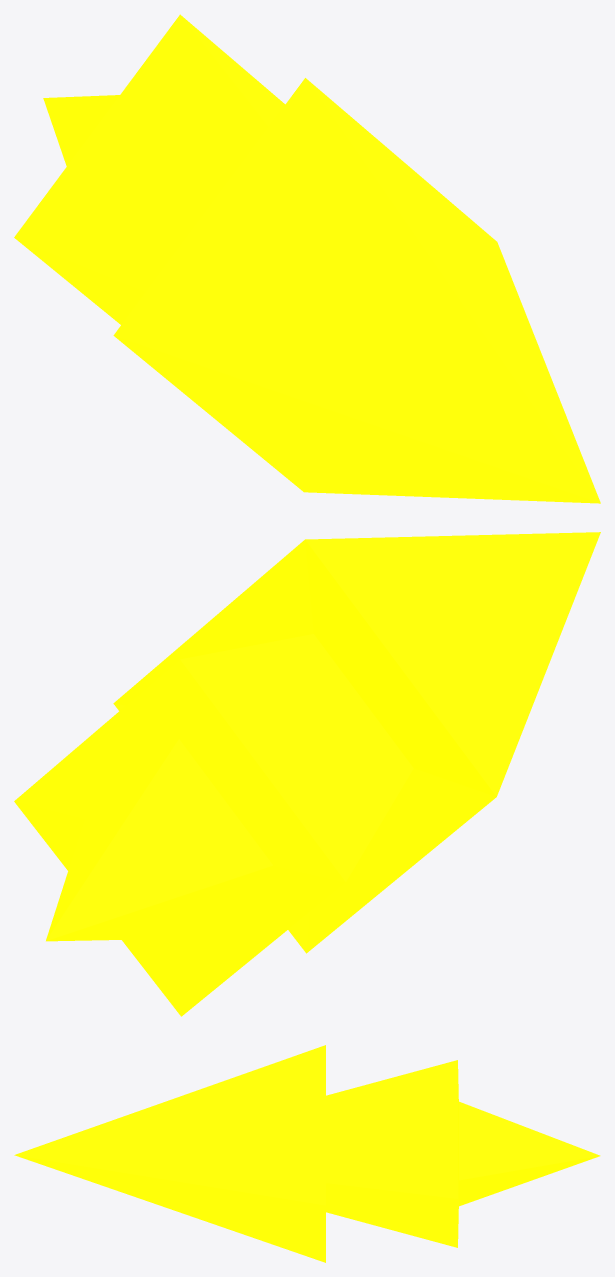
The model's file is lazer_shot.glb.
3 views of the same model, one above another, from view 1: azimuth 30°, elevation 25°; view 2: azimuth 150°, elevation 25°; view 3: azimuth 270°, elevation 25° (orthographic). The views are drawn at different scales.
Visible parts, largest first — view 1: shot; view 2: shot; view 3: shot.
Part boxes in pixels (x1=…): shot: x1=14, y1=14, x2=600, y2=503; shot: x1=14, y1=532, x2=600, y2=1016; shot: x1=14, y1=1045, x2=600, y2=1262.
Size of the model in its own units: 0.9678 by 0.998 by 2.43.
